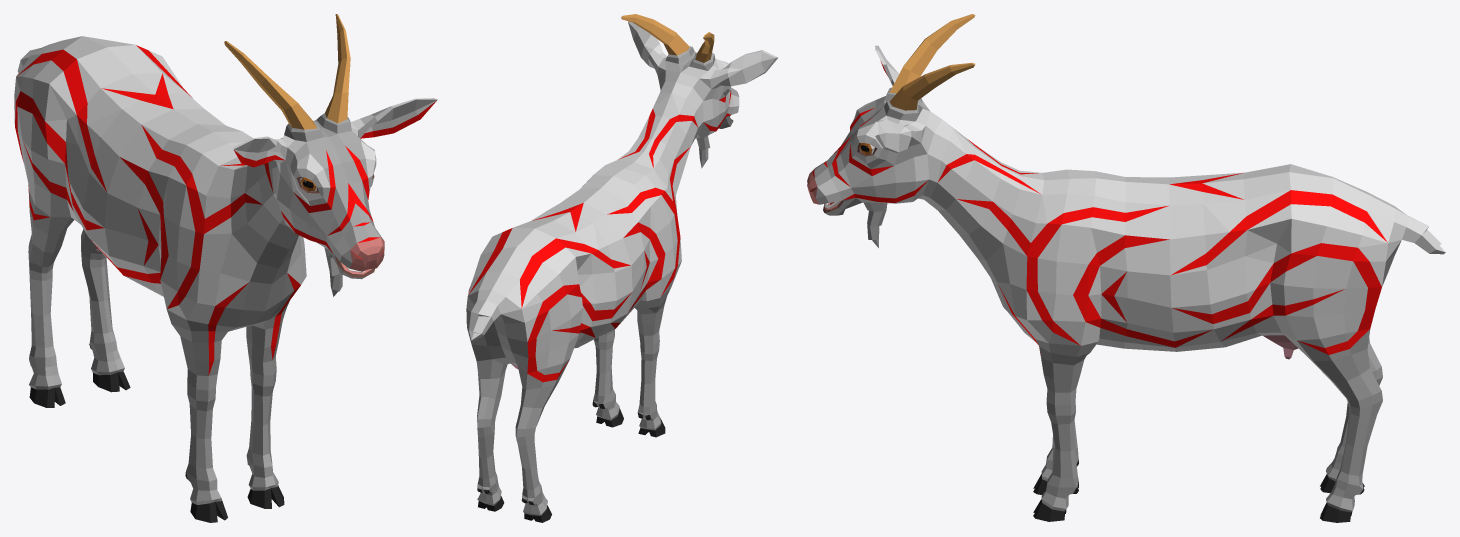
Rendered from LowPoly_Goat_Fem_10.obj.
3 renders of one model, left to right at view 1: azimuth 30°, elevation 25°; view 2: azimuth 150°, elevation 25°; view 3: azimuth 270°, elevation 25°, orthographic. The views are drawn at different scales.
Visible parts, largest first — view 1: Goat_Fem_10_Cube.009; view 2: Goat_Fem_10_Cube.009; view 3: Goat_Fem_10_Cube.009.
Boxes of the visible parts, x1,y1,x2,y2 form: Goat_Fem_10_Cube.009: [14, 14, 437, 522]; Goat_Fem_10_Cube.009: [466, 14, 778, 522]; Goat_Fem_10_Cube.009: [807, 14, 1445, 522].
Size of the model in its own units: 0.3947 by 0.9443 by 1.18.
